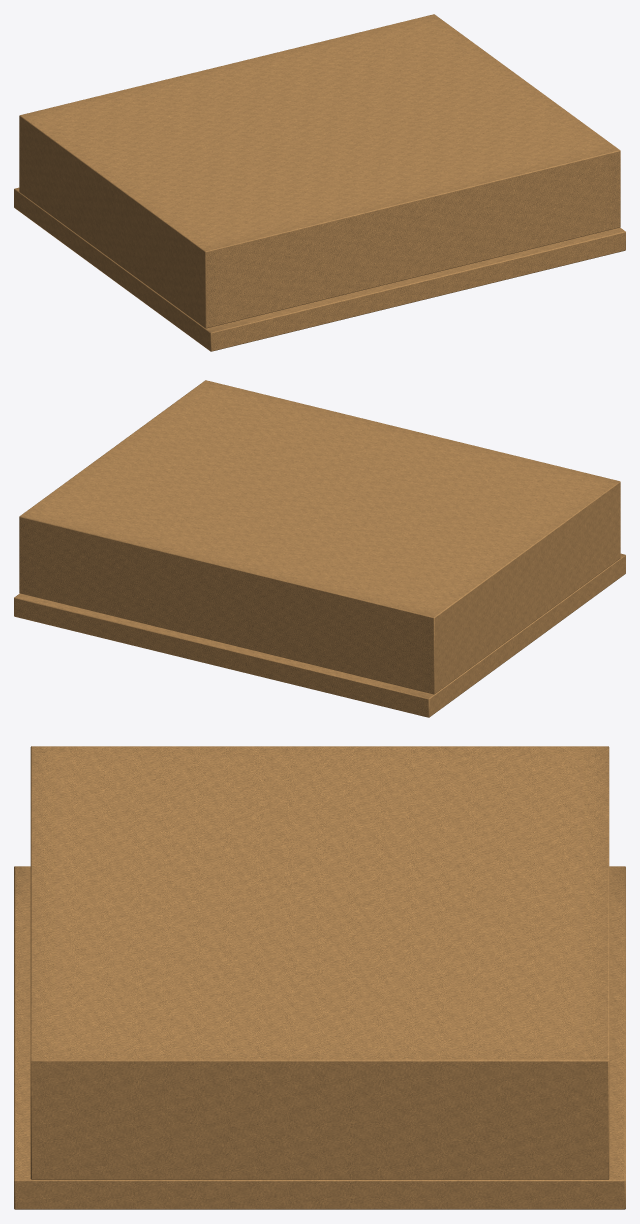
The model's file is 7-top-box-bottom-left.fbx.
3 renders of one model, top to bottom at view 1: azimuth 30°, elevation 25°; view 2: azimuth 150°, elevation 25°; view 3: azimuth 270°, elevation 25°, orthographic. The views are drawn at different scales.
Parts seen in each view (by area): view 1: top-box-bottom-left; view 2: top-box-bottom-left; view 3: top-box-bottom-left.
Boxes of the visible parts, bbox=[...] form: top-box-bottom-left: bbox=[14, 14, 625, 351]; top-box-bottom-left: bbox=[14, 380, 625, 717]; top-box-bottom-left: bbox=[14, 746, 625, 1209].
Size of the model in its own units: 9000 by 2000 by 7400.
1 material, 1 textured.
